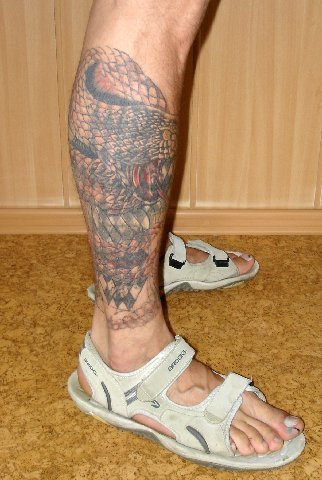tatu7_zmeya: (61, 39, 189, 312)
